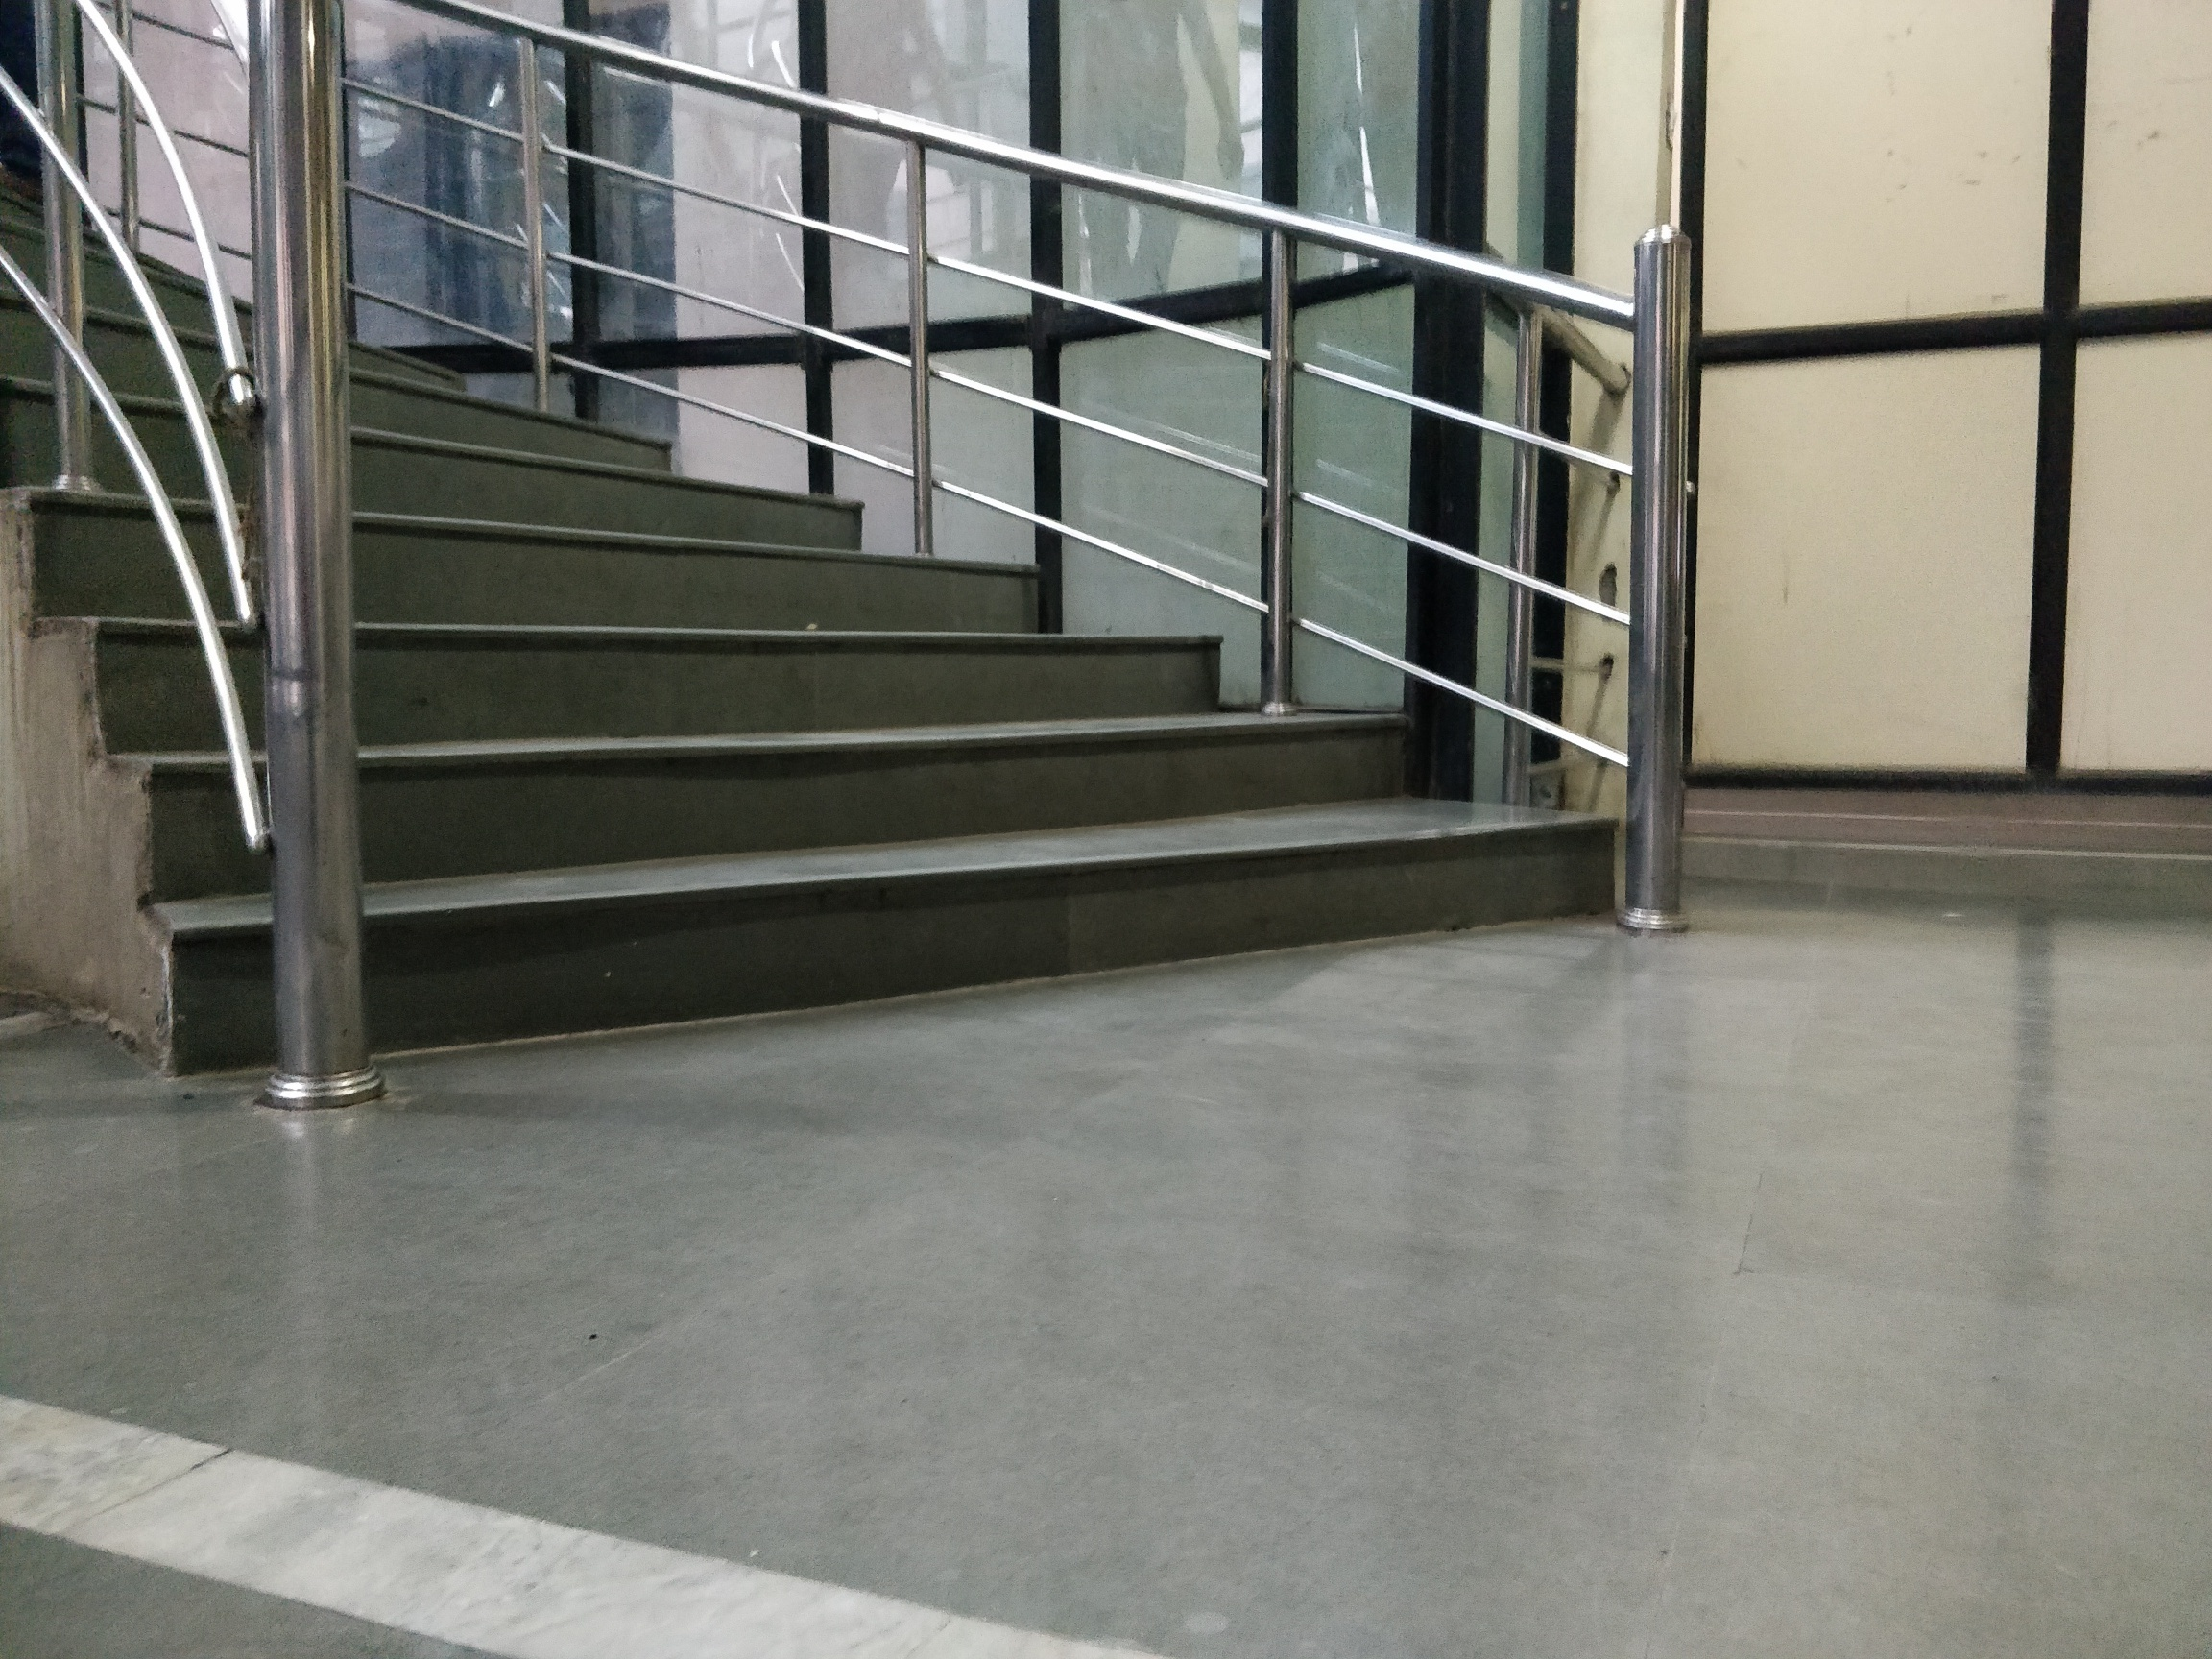stairs_up: (82, 300, 1653, 906)
